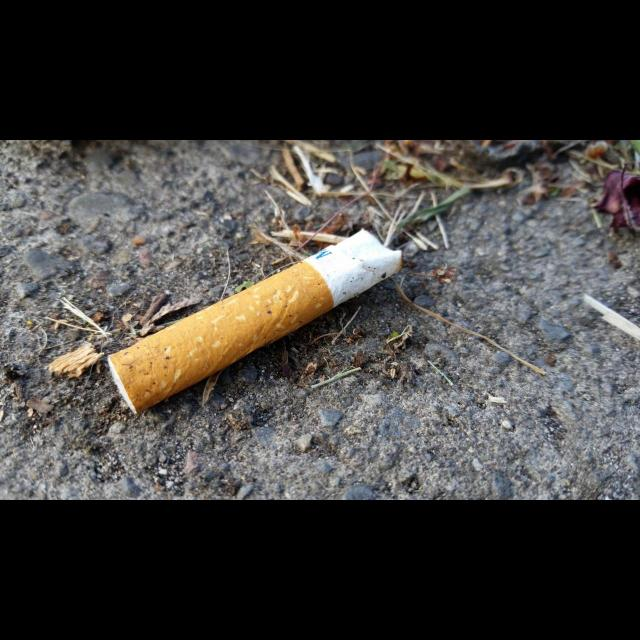cigarette: (107, 230, 403, 414)
